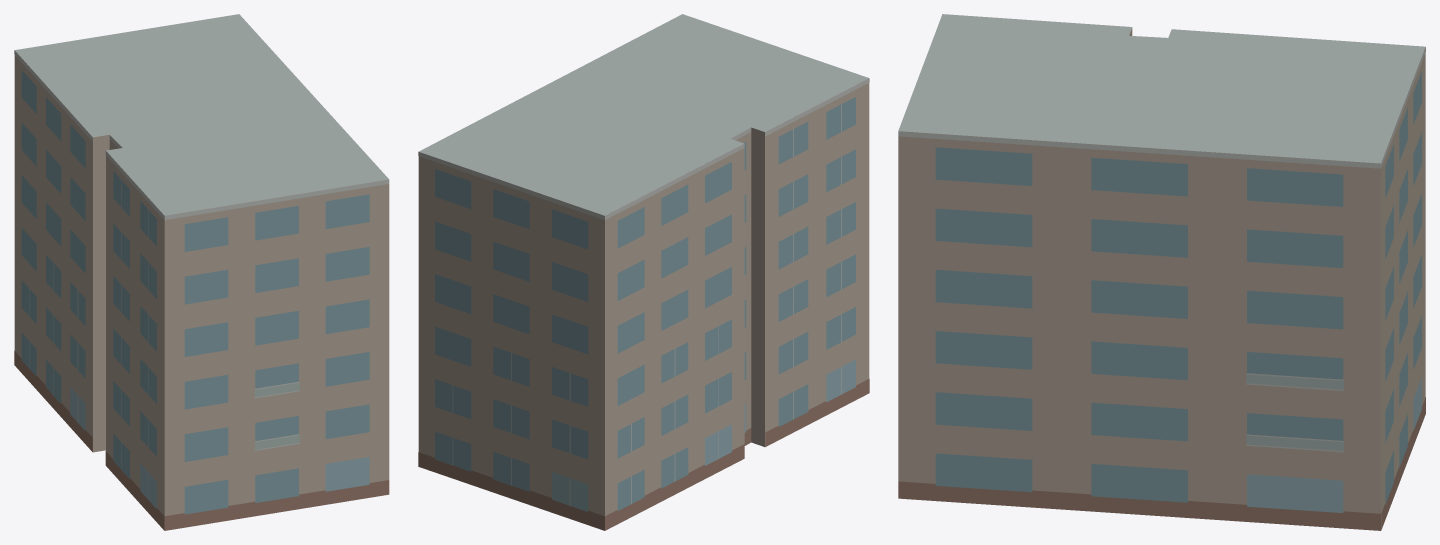
The model's file is survey-upis-33011774.glb.
The picture shows the model from 3 angles, left to right: view 1: azimuth 30°, elevation 25°; view 2: azimuth 150°, elevation 25°; view 3: azimuth 270°, elevation 25°; orthographic projection. The views are drawn at different scales.
Visible parts, largest first — view 1: survey-upis-33011774.tmp; view 2: survey-upis-33011774.tmp; view 3: survey-upis-33011774.tmp.
Boxes of the visible parts, box(x1,y1,x2,y2) form: survey-upis-33011774.tmp: box(14, 14, 389, 530); survey-upis-33011774.tmp: box(418, 14, 869, 530); survey-upis-33011774.tmp: box(898, 14, 1425, 530).
Size of the model in its own units: 15.2 by 17.4 by 22.66.
